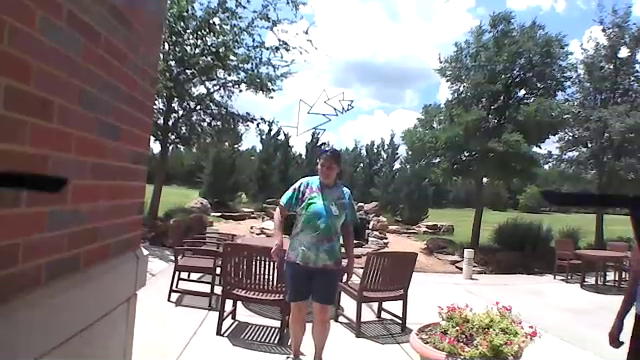down: (266, 240, 285, 271)
